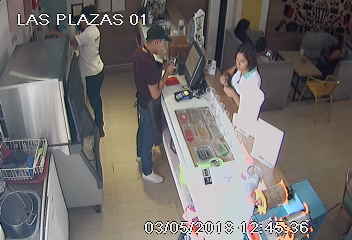ocupado: (230, 20, 349, 103)
